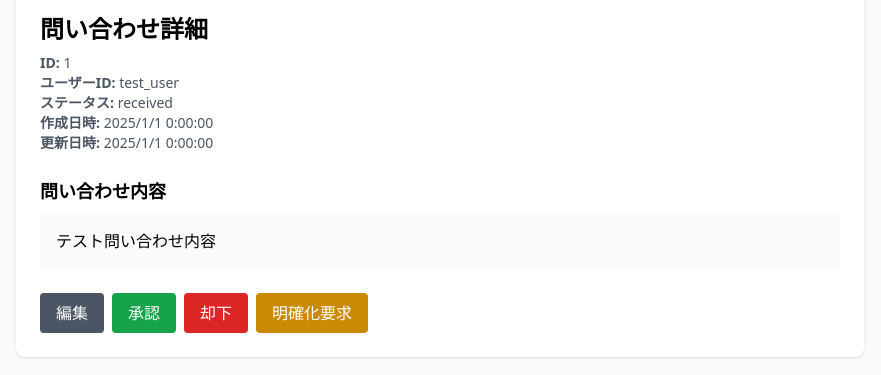
Test: InquiryDetail › Approve operation › approves inquiry when approve button is clicked
This screenshot has width=881, height=375.
Expected: the text "テスト問い合わせ内容" is shown, 40,213 -> 840,269
Click the button "承認".
click(144, 313)  # box 112,293 -> 176,333
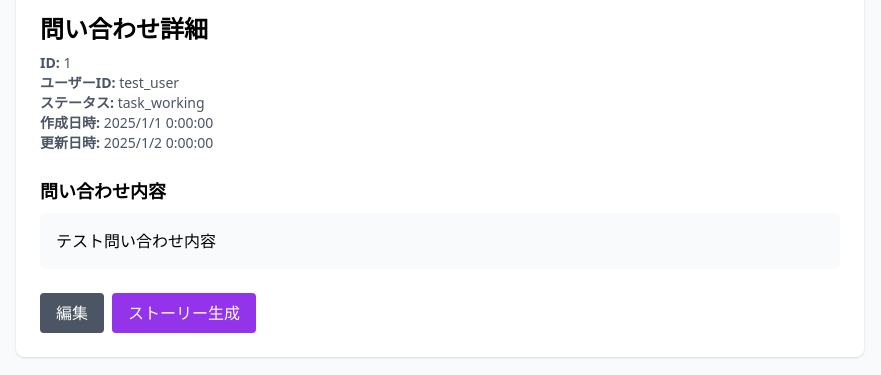
Now the text "task_working" is shown, box 118,93 -> 204,112
